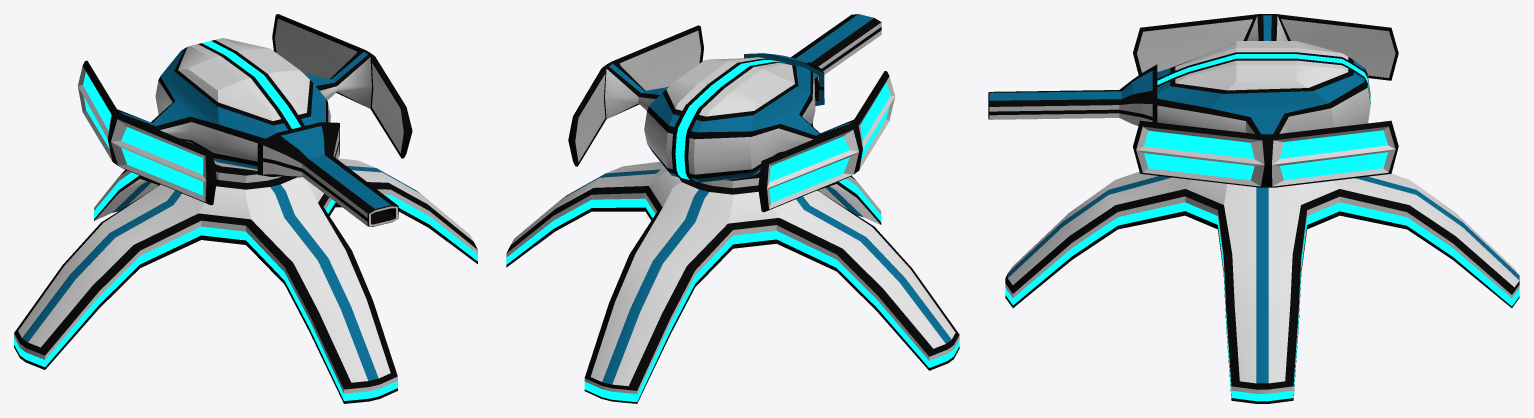
Rendered from Турель (без скелета 3).fbx.
3 views of the same model, side by side, from view 1: azimuth 30°, elevation 25°; view 2: azimuth 150°, elevation 25°; view 3: azimuth 270°, elevation 25° (orthographic). The views are drawn at different scales.
Visible parts, largest first — view 1: tower.002, tower.001; view 2: tower.002, tower.001; view 3: tower.001, tower.002.
Boxes of the visible parts, box(x1,y1,x2,y2) form: tower.002: box(14, 158, 477, 403); tower.001: box(78, 14, 412, 226); tower.002: box(506, 161, 959, 403); tower.001: box(568, 14, 895, 211); tower.001: box(988, 14, 1398, 187); tower.002: box(1005, 171, 1519, 403).
Bounding box in the file's own units: 300 × 154 × 310.
